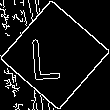L_N: (38, 28, 72, 82)
